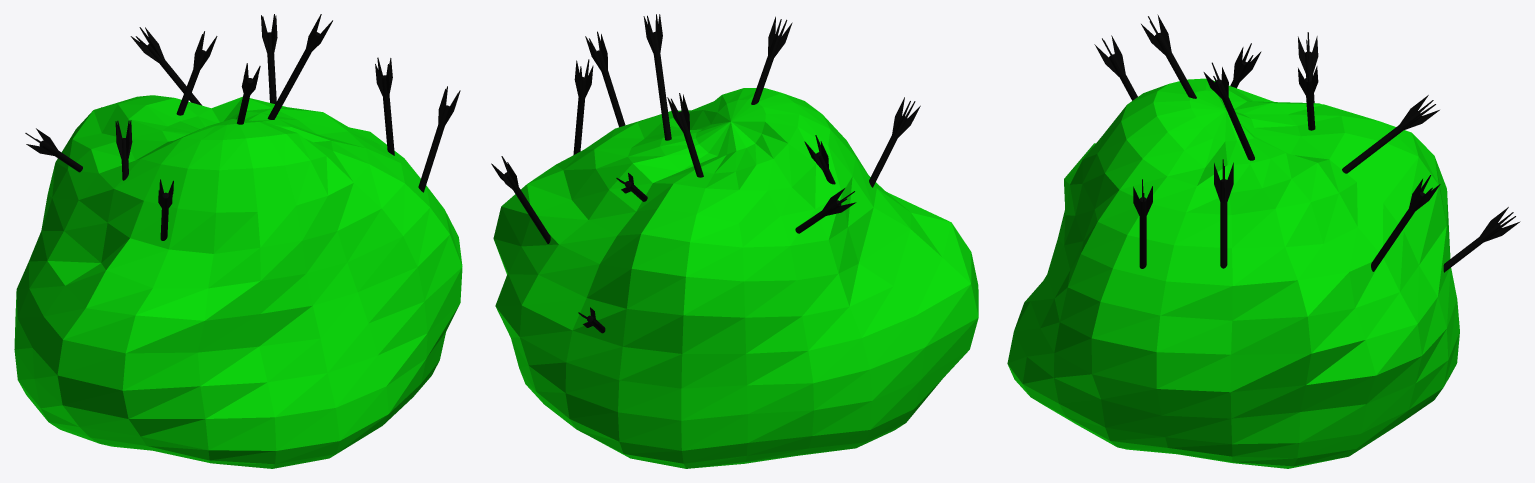
File: SlimeArrows.fbx
The picture shows the model from 3 angles, left to right: view 1: azimuth 30°, elevation 25°; view 2: azimuth 150°, elevation 25°; view 3: azimuth 270°, elevation 25°; orthographic projection. The views are drawn at different scales.
Parts seen in each view (by area): view 1: Slime2; view 2: Slime2; view 3: Slime2.
Boxes of the visible parts, x1,y1,x2,y2 form: Slime2: (14, 14, 462, 468); Slime2: (491, 14, 978, 468); Slime2: (1007, 14, 1520, 468).
Bounding box in the file's own units: 2.16 × 1.81 × 2.25.
